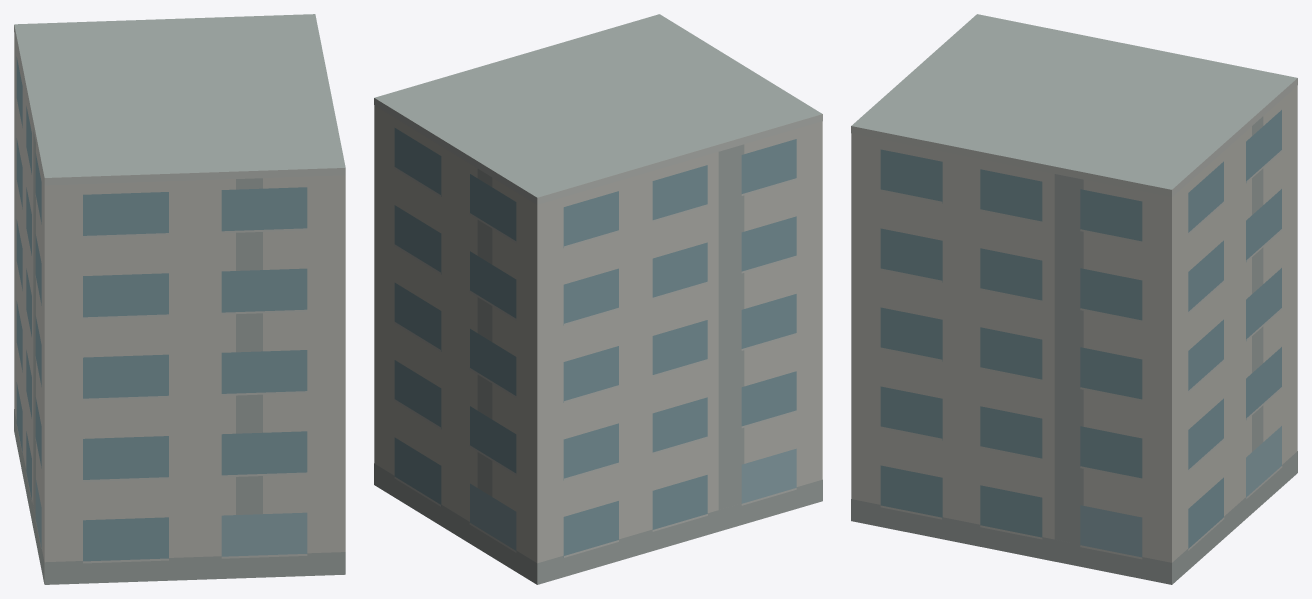
File: survey-upis-32553126.glb
3 renders of one model, left to right at view 1: azimuth 30°, elevation 25°; view 2: azimuth 150°, elevation 25°; view 3: azimuth 270°, elevation 25°, orthographic. The views are drawn at different scales.
Parts seen in each view (by area): view 1: survey-upis-32553126.tmp; view 2: survey-upis-32553126.tmp; view 3: survey-upis-32553126.tmp.
Boxes of the visible parts, x1,y1,x2,y2 form: survey-upis-32553126.tmp: (14, 14, 345, 584); survey-upis-32553126.tmp: (374, 14, 822, 584); survey-upis-32553126.tmp: (851, 14, 1297, 584).
Size of the model in its own units: 12.52 by 13.1 by 13.43.
